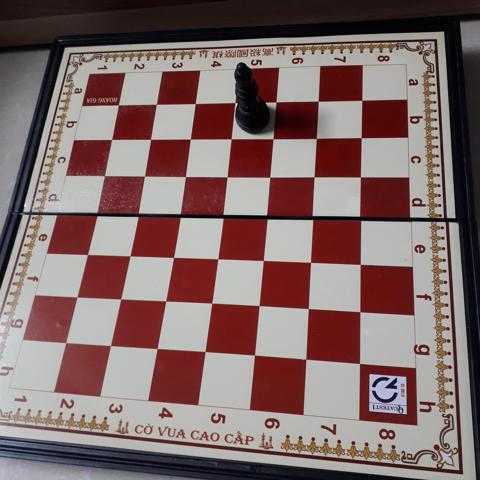xcorner: (354, 92, 371, 109), (310, 93, 327, 110), (267, 93, 284, 110), (226, 94, 243, 111), (186, 95, 203, 112), (147, 96, 164, 113), (109, 96, 126, 113), (353, 129, 370, 146), (308, 129, 325, 146), (264, 129, 281, 146), (222, 129, 239, 146), (181, 130, 198, 147), (141, 130, 158, 147), (102, 130, 119, 147), (353, 168, 370, 185), (306, 167, 323, 184), (261, 167, 278, 184), (217, 167, 234, 184), (175, 166, 192, 183), (134, 166, 151, 183), (94, 166, 111, 183), (352, 210, 369, 227), (304, 209, 321, 226), (258, 208, 275, 225), (213, 207, 230, 224), (169, 206, 186, 223), (127, 205, 144, 222), (86, 204, 103, 221), (352, 254, 369, 271), (302, 252, 319, 269), (254, 251, 271, 268), (208, 249, 225, 266), (163, 247, 180, 264), (119, 246, 136, 263), (77, 244, 94, 261), (351, 302, 368, 319), (300, 299, 317, 316), (250, 297, 267, 314), (202, 294, 219, 311), (156, 292, 173, 309), (111, 289, 128, 306), (67, 287, 84, 304), (351, 354, 368, 371), (298, 350, 315, 367), (246, 346, 263, 363), (196, 343, 213, 360), (102, 336, 119, 353), (57, 333, 74, 350), (148, 340, 165, 356)
